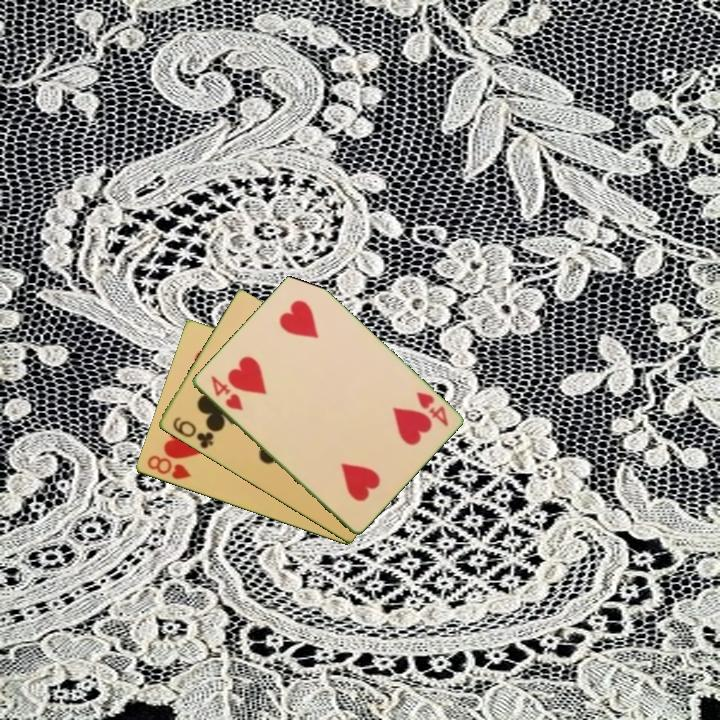4h: (412, 388, 451, 430), (207, 372, 245, 414)
6c: (169, 413, 216, 452)
8h: (143, 452, 194, 483)
